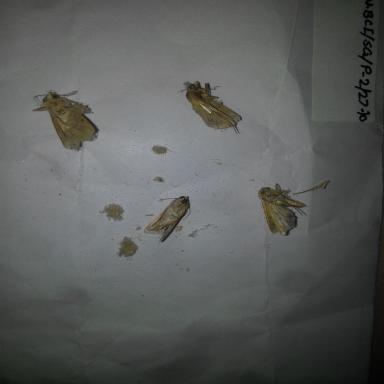abw: (26, 86, 102, 156), (174, 76, 246, 136), (140, 187, 202, 246), (254, 179, 310, 239)
